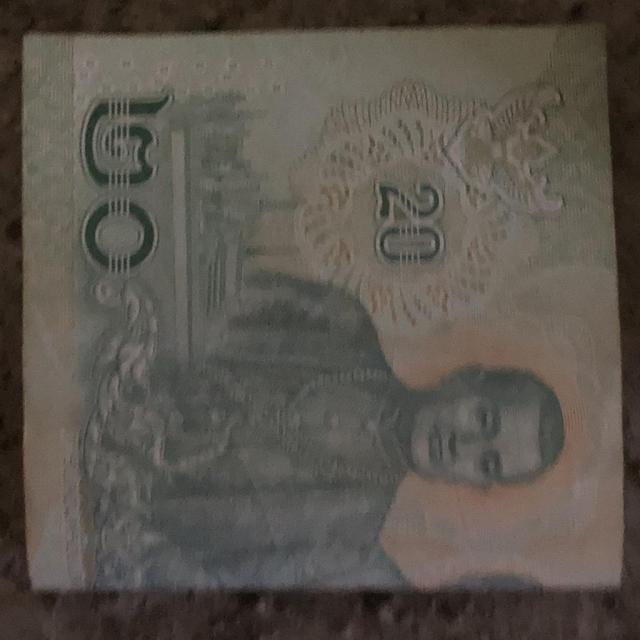THAI20: (18, 0, 628, 597)
